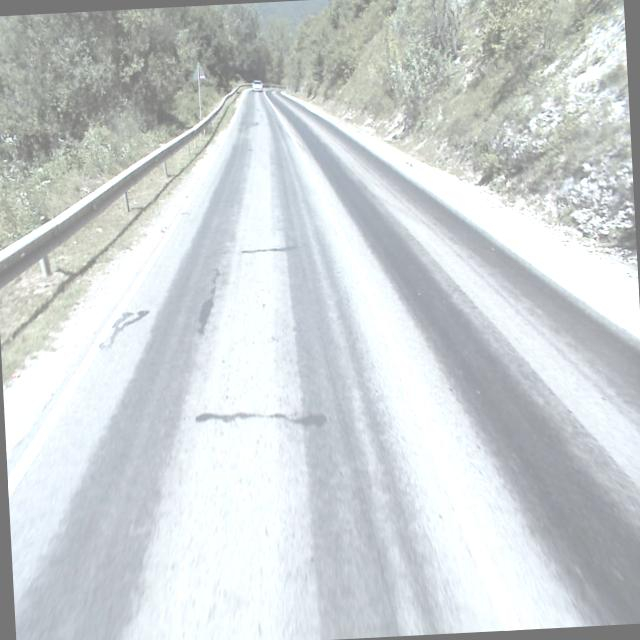road: (7, 88, 640, 640)
